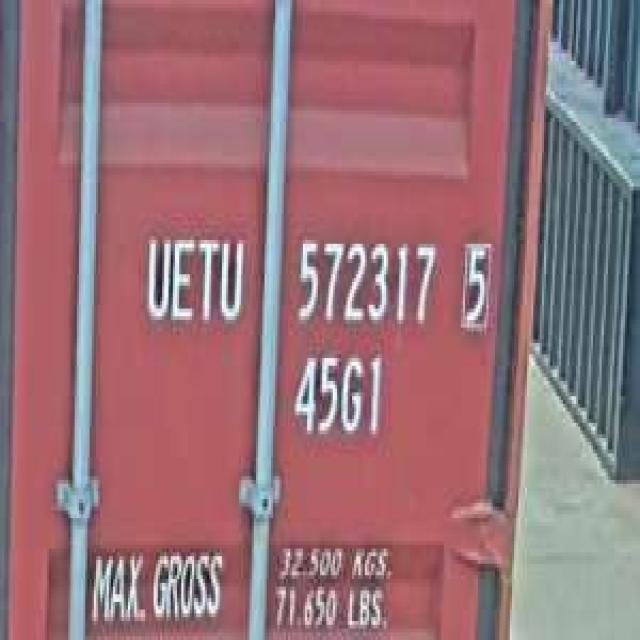dv: (454, 232, 495, 336)
owner: (138, 225, 248, 335)
serial: (290, 225, 440, 335)
size: (288, 343, 386, 446)
